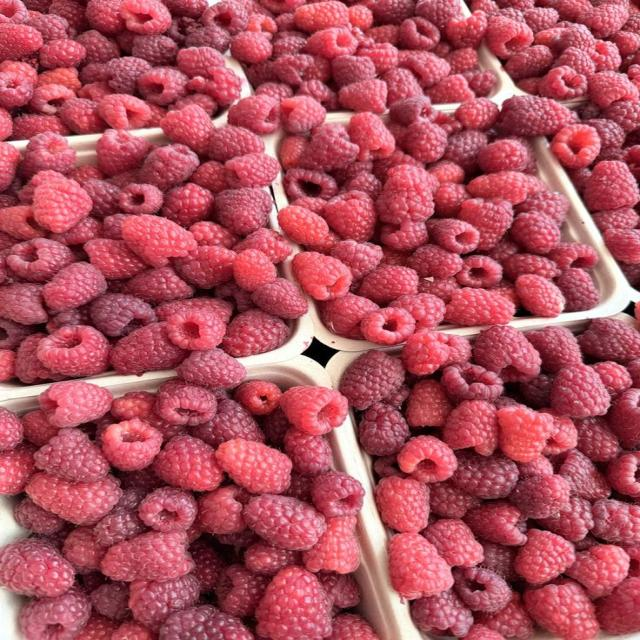raspberry: (256, 566, 330, 636), (26, 473, 121, 524), (101, 532, 193, 581), (244, 495, 326, 549), (0, 539, 73, 597), (525, 581, 599, 638), (389, 534, 453, 599), (215, 439, 292, 493), (128, 574, 199, 630), (34, 429, 108, 482), (110, 323, 186, 374), (340, 351, 404, 410), (123, 215, 197, 266), (154, 436, 222, 491), (37, 326, 109, 377), (474, 327, 540, 381), (191, 399, 264, 447), (19, 590, 91, 638), (376, 164, 433, 224), (40, 381, 112, 428), (566, 545, 629, 598), (514, 530, 575, 583), (101, 418, 162, 471), (42, 262, 106, 312), (303, 517, 359, 574), (221, 310, 290, 356), (280, 387, 347, 434), (33, 179, 92, 232), (161, 183, 213, 243), (452, 452, 518, 499), (160, 605, 251, 639), (443, 400, 498, 455), (552, 365, 610, 417), (402, 331, 470, 375), (6, 238, 74, 282), (498, 96, 573, 135), (411, 590, 473, 637), (155, 378, 217, 425), (292, 252, 352, 300), (376, 477, 428, 532), (215, 187, 273, 236), (90, 294, 156, 337), (464, 501, 526, 546), (424, 519, 483, 566), (139, 144, 199, 190), (177, 348, 246, 388), (459, 199, 513, 250), (584, 161, 639, 211), (398, 436, 457, 482), (300, 124, 359, 170), (216, 565, 269, 616), (323, 191, 376, 242), (160, 104, 213, 155), (123, 266, 194, 304), (358, 403, 409, 455), (579, 319, 639, 363), (174, 245, 235, 288), (557, 450, 610, 499), (21, 132, 76, 179), (446, 288, 514, 326), (454, 567, 512, 611), (596, 576, 640, 634), (320, 294, 378, 338), (510, 475, 569, 518), (526, 327, 581, 373), (140, 486, 196, 531), (84, 239, 146, 279), (539, 496, 593, 541), (14, 334, 63, 383), (97, 130, 150, 175), (311, 472, 364, 517), (167, 310, 226, 350), (198, 486, 248, 533), (359, 265, 418, 304), (252, 278, 308, 319), (284, 428, 331, 476), (347, 113, 394, 161), (551, 124, 600, 168), (360, 307, 415, 345), (592, 500, 639, 544), (209, 125, 263, 163), (390, 293, 445, 330), (400, 119, 446, 163), (516, 275, 564, 317), (511, 212, 560, 253), (228, 95, 279, 134), (278, 206, 329, 245), (574, 417, 619, 461), (486, 16, 533, 58), (154, 298, 232, 323), (95, 508, 147, 545), (0, 284, 48, 324), (189, 539, 225, 592), (63, 528, 106, 572), (244, 541, 299, 575), (98, 94, 151, 129), (430, 481, 480, 518), (588, 71, 638, 108), (556, 269, 599, 312), (0, 443, 35, 495), (407, 244, 462, 277), (14, 498, 63, 535), (444, 130, 487, 172), (225, 154, 279, 187), (234, 249, 277, 290), (294, 0, 349, 32), (478, 139, 531, 172), (120, 0, 171, 34), (58, 98, 106, 134), (105, 56, 150, 94), (280, 96, 326, 133), (505, 45, 553, 80), (284, 169, 338, 200), (305, 27, 357, 59), (538, 66, 586, 100), (201, 0, 247, 35), (234, 380, 281, 414), (0, 23, 43, 60), (10, 114, 70, 140), (502, 254, 559, 281), (0, 206, 46, 239), (445, 12, 486, 48), (456, 256, 502, 288), (455, 98, 499, 131), (91, 582, 128, 621), (83, 178, 120, 217), (177, 47, 224, 77), (427, 74, 474, 104), (39, 39, 86, 69), (28, 84, 75, 114), (607, 453, 639, 497), (593, 361, 632, 397), (132, 35, 178, 65), (50, 217, 101, 244), (118, 184, 162, 215), (86, 0, 124, 35), (0, 70, 34, 109), (390, 96, 434, 126), (77, 31, 118, 63), (22, 410, 58, 446), (603, 229, 640, 264), (111, 391, 154, 421), (49, 0, 88, 33), (231, 32, 272, 63), (186, 24, 230, 52), (27, 14, 68, 42), (485, 543, 515, 580), (332, 614, 376, 639), (0, 318, 33, 350), (77, 614, 118, 639), (0, 142, 20, 193), (372, 0, 414, 24), (0, 408, 24, 450), (167, 17, 200, 44), (162, 0, 207, 18), (256, 82, 293, 101), (0, 0, 28, 23), (465, 624, 503, 639)
